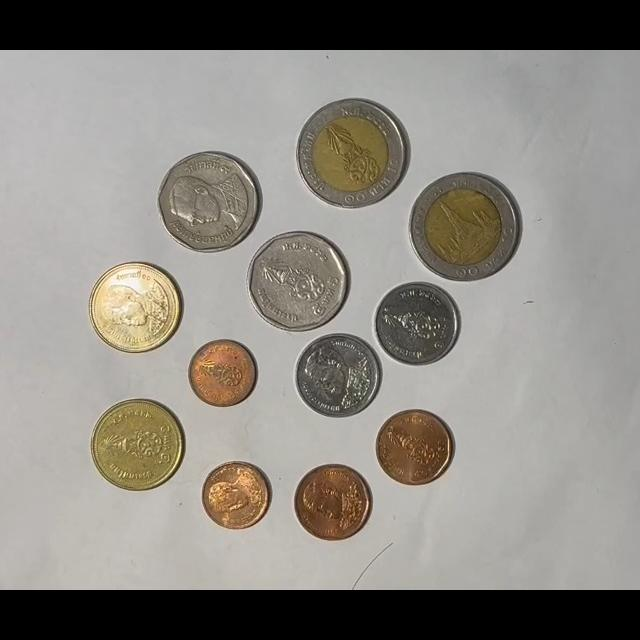1-baht: (294, 333, 381, 419), (373, 282, 460, 367)
10-baht: (296, 98, 409, 210), (409, 172, 521, 282)
2-baht: (90, 399, 185, 491), (89, 262, 181, 355)
25-satang: (201, 461, 272, 531), (188, 339, 257, 407)
5-baht: (247, 230, 350, 333), (157, 151, 261, 253)
50-satang: (293, 464, 372, 542), (375, 409, 454, 486)
